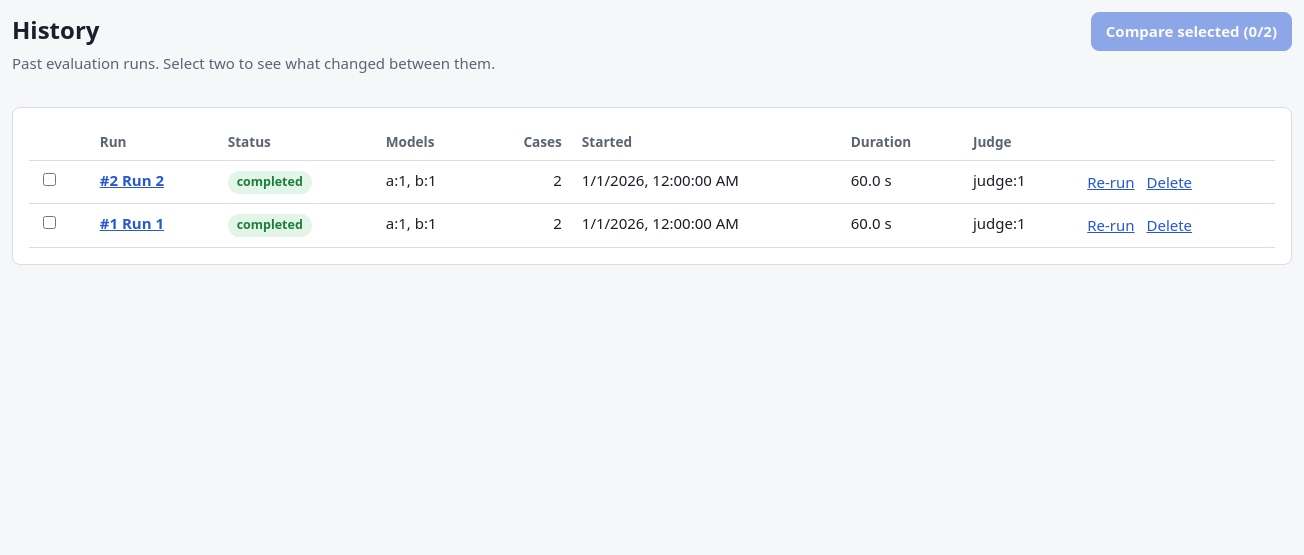
9.9 history page › shows a "Followed skill" column with a delta when adherence was judged
This screenshot has width=1304, height=555.
What coordinates should you click on to do the following:
click the checkbox named "Select run 2 for comparison"
I would click on:
 (50, 179)
Its box is 43,173 -> 56,186.
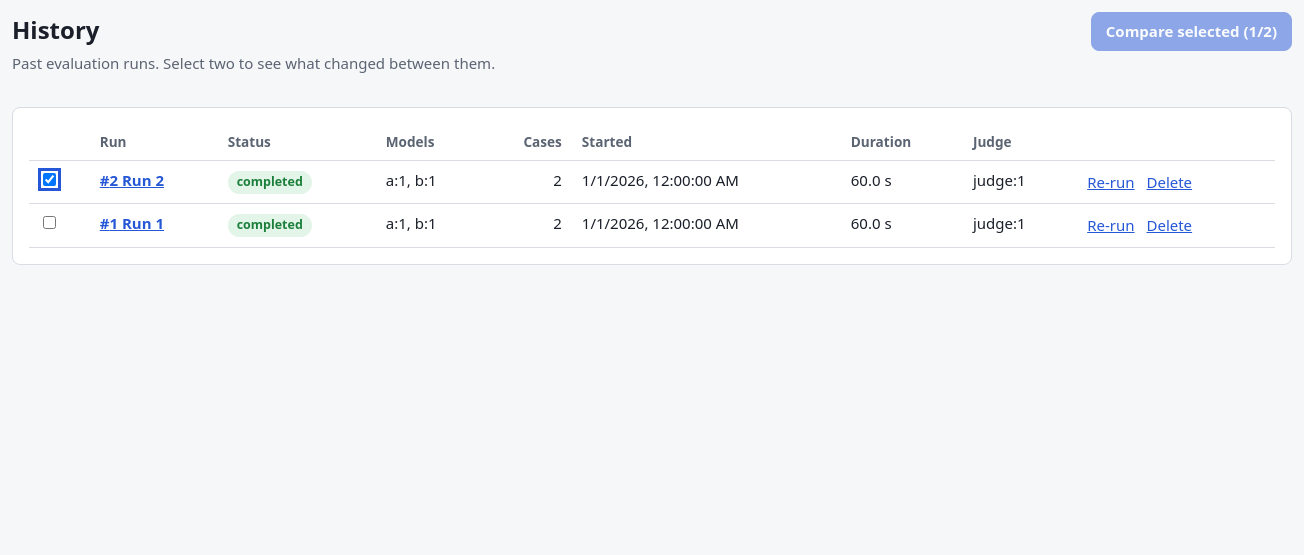
What coordinates should you click on to do the following:
click the checkbox named "Select run 1 for comparison"
I would click on:
 (50, 223)
Its box is 43,216 -> 56,229.
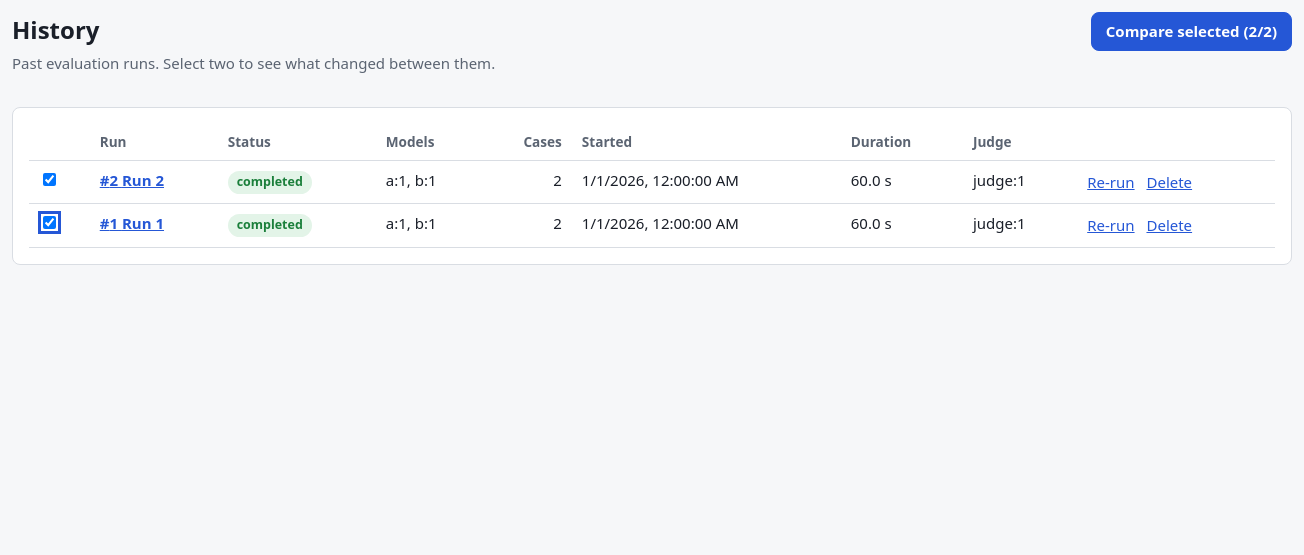
What coordinates should you click on to do the following:
click the button "Compare selected (2/2)"
I would click on:
 (1191, 31)
Its box is 1091,12 -> 1292,50.
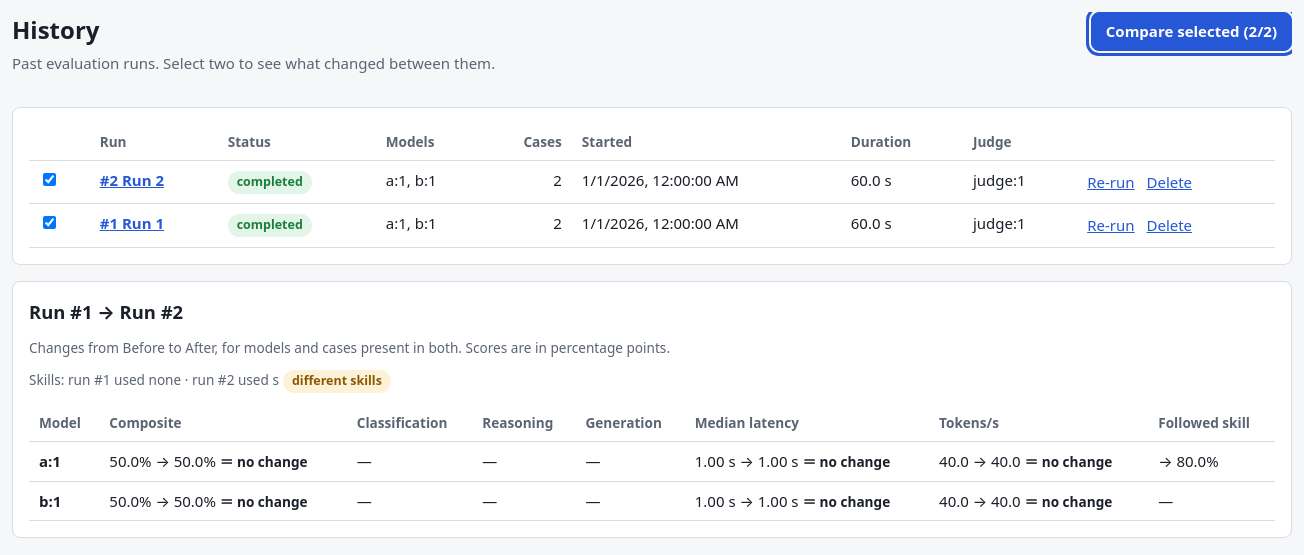
Expected: the column heading "Followed skill" is shown, 1148,405 -> 1275,442
Expected: the text "→ 80.0%" is shown, 1158,451 -> 1219,471
Expected: the 7th cell "—" is shown, 1148,481 -> 1275,520
